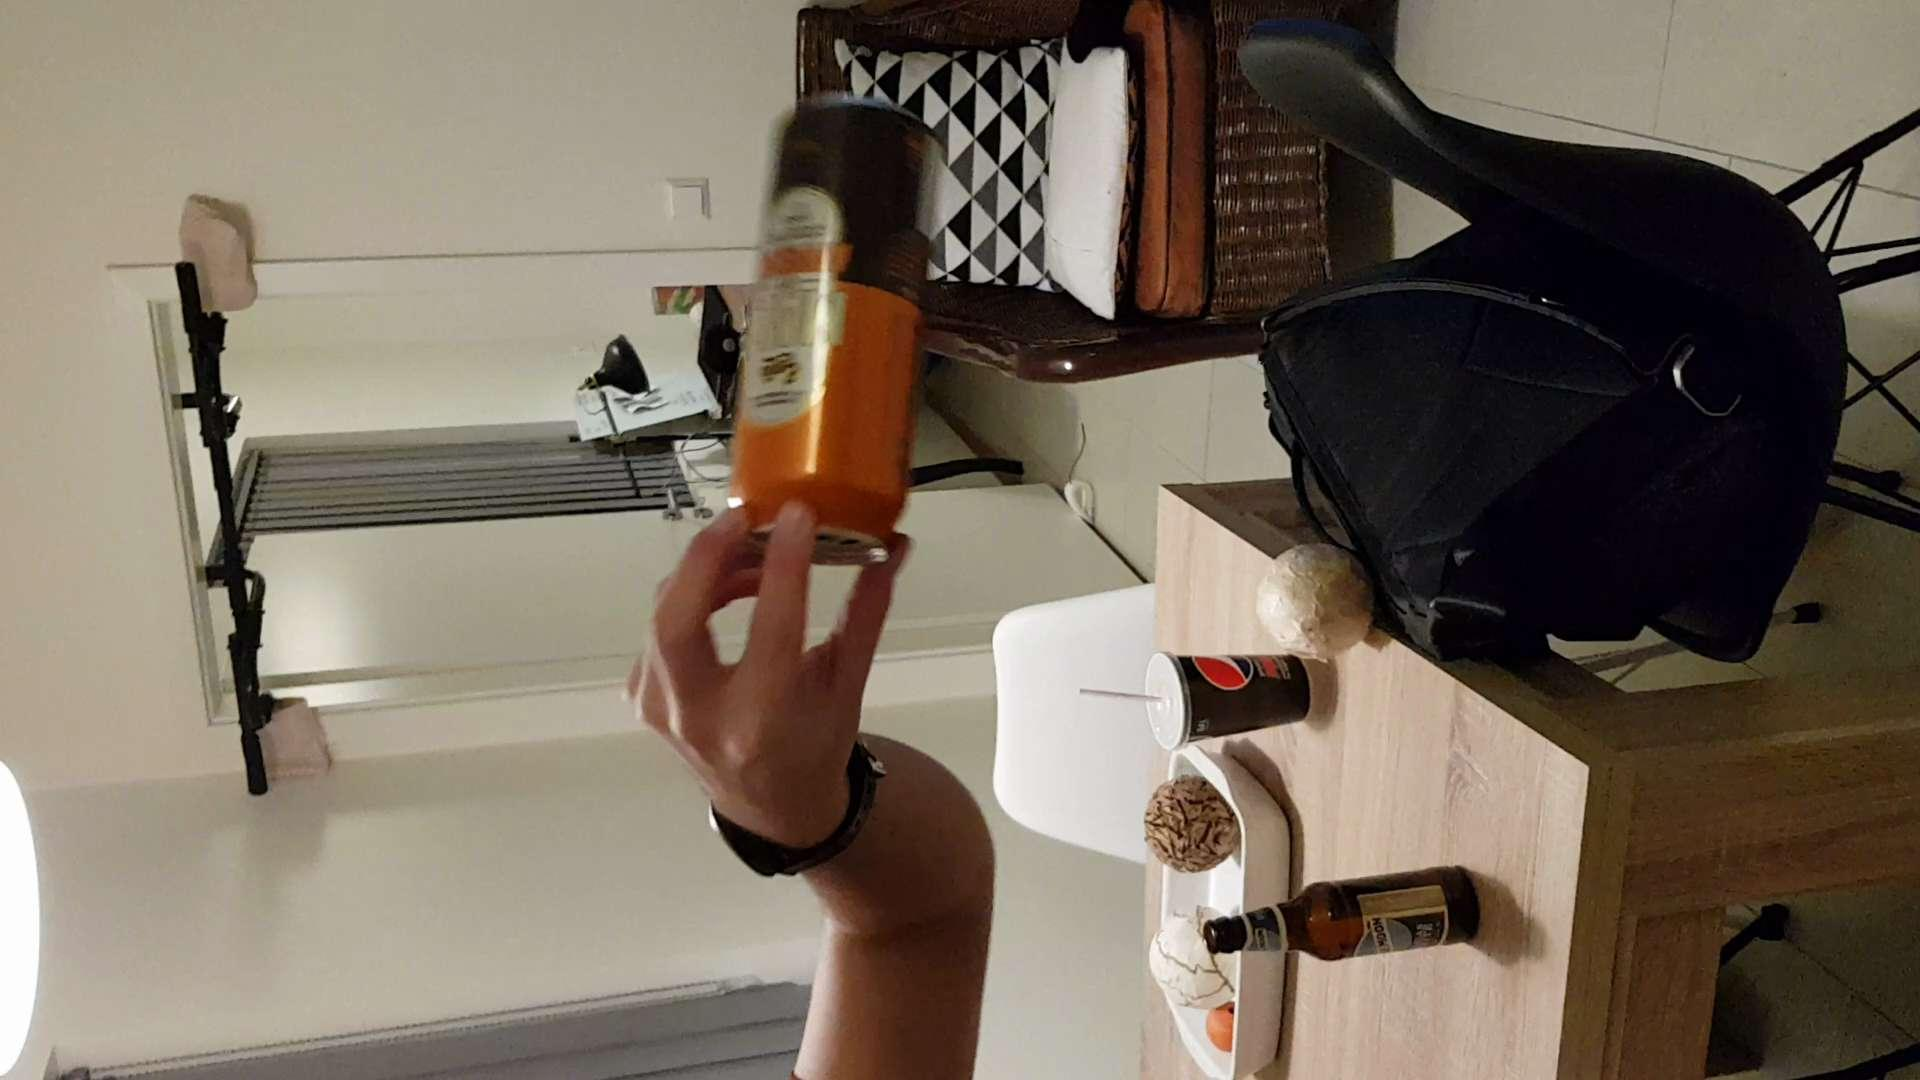Can: (719, 96, 932, 574)
